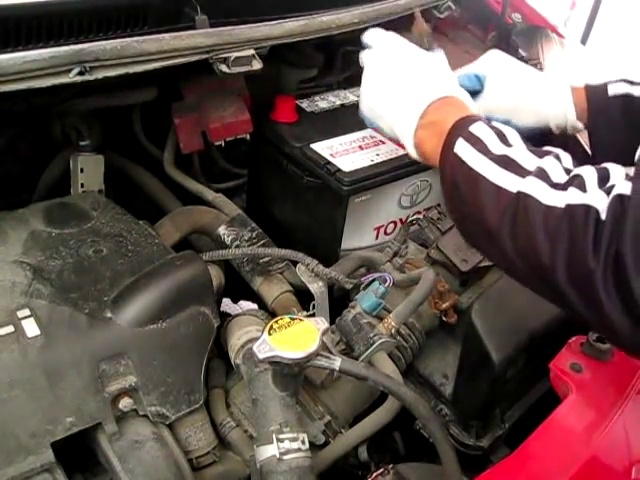battery: (262, 80, 435, 180)
pos_disconnected: (184, 86, 306, 147)
